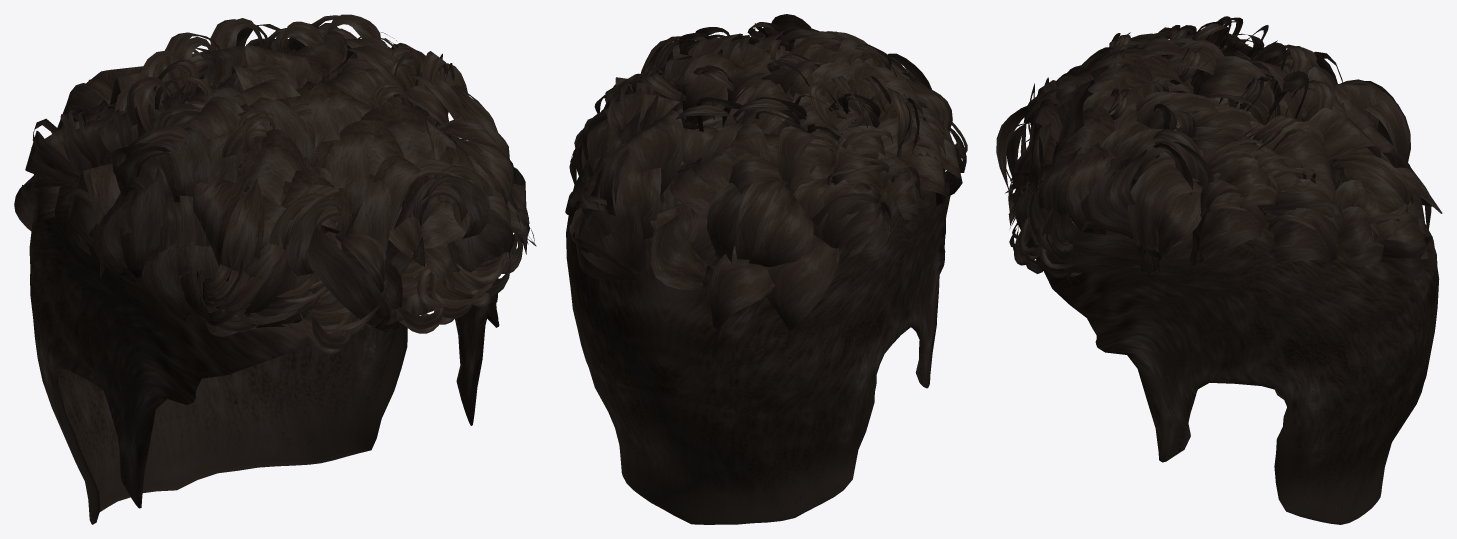
Rendered from Rectangle_Curly_Undercut.glb.
3 renders of one model, left to right at view 1: azimuth 30°, elevation 25°; view 2: azimuth 150°, elevation 25°; view 3: azimuth 270°, elevation 25°, orthographic. The views are drawn at different scales.
Parts seen in each view (by area): view 1: CURLY UNDERCUT, SCALP_NEW; view 2: CURLY UNDERCUT, SCALP_NEW; view 3: CURLY UNDERCUT, SCALP_NEW.
Boxes of the visible parts, box(x1,y1,x2,y2) form: CURLY UNDERCUT: box(14, 14, 536, 353); SCALP_NEW: box(29, 112, 499, 524); CURLY UNDERCUT: box(565, 14, 967, 330); SCALP_NEW: box(566, 101, 950, 524); CURLY UNDERCUT: box(996, 16, 1442, 286); SCALP_NEW: box(1036, 97, 1439, 524).
Size of the model in its own units: 0.1948 by 0.2371 by 0.2188.
Materials: 2 (2 with a texture image).
